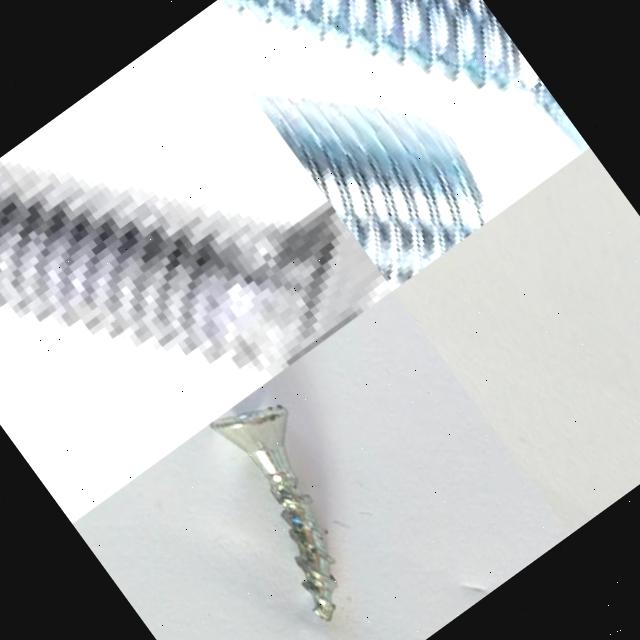Screw: (0, 152, 393, 382), (212, 0, 590, 160), (246, 87, 493, 285), (210, 404, 337, 621)
